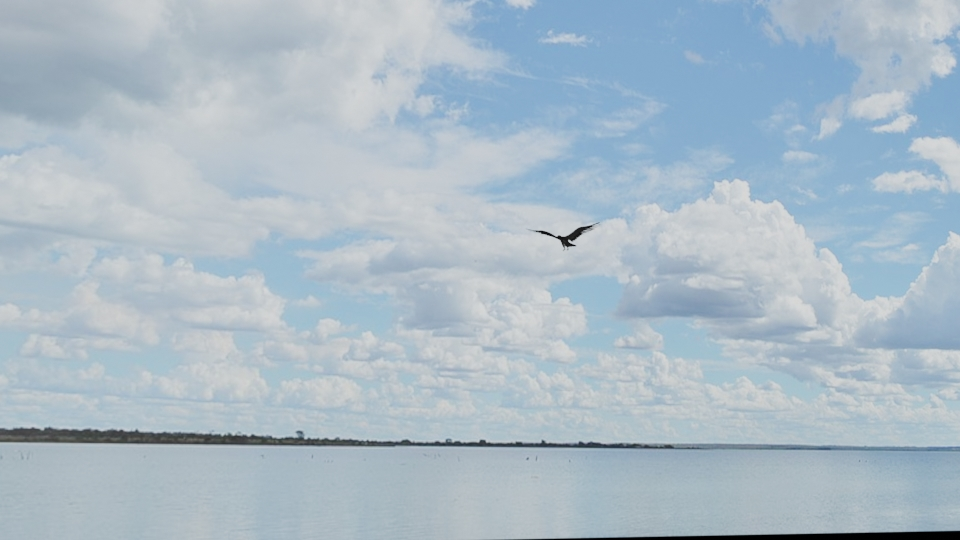bird: (528, 221, 596, 246)
